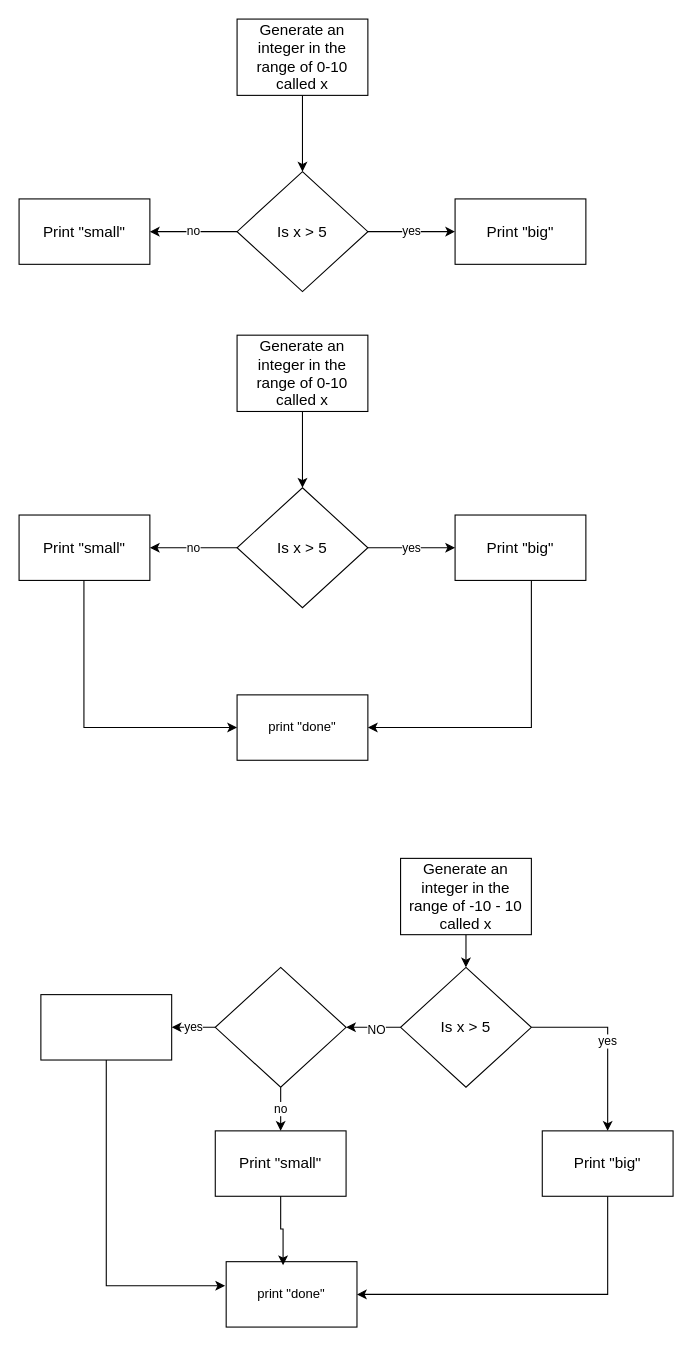
This 692x1346 diagram has some shape labels left out. Here are the shapes that lost their labels. From the top down, the centre of each, then its label:
(x=106, y=1027): Print "negative"
(x=280, y=1026): is X < 0
